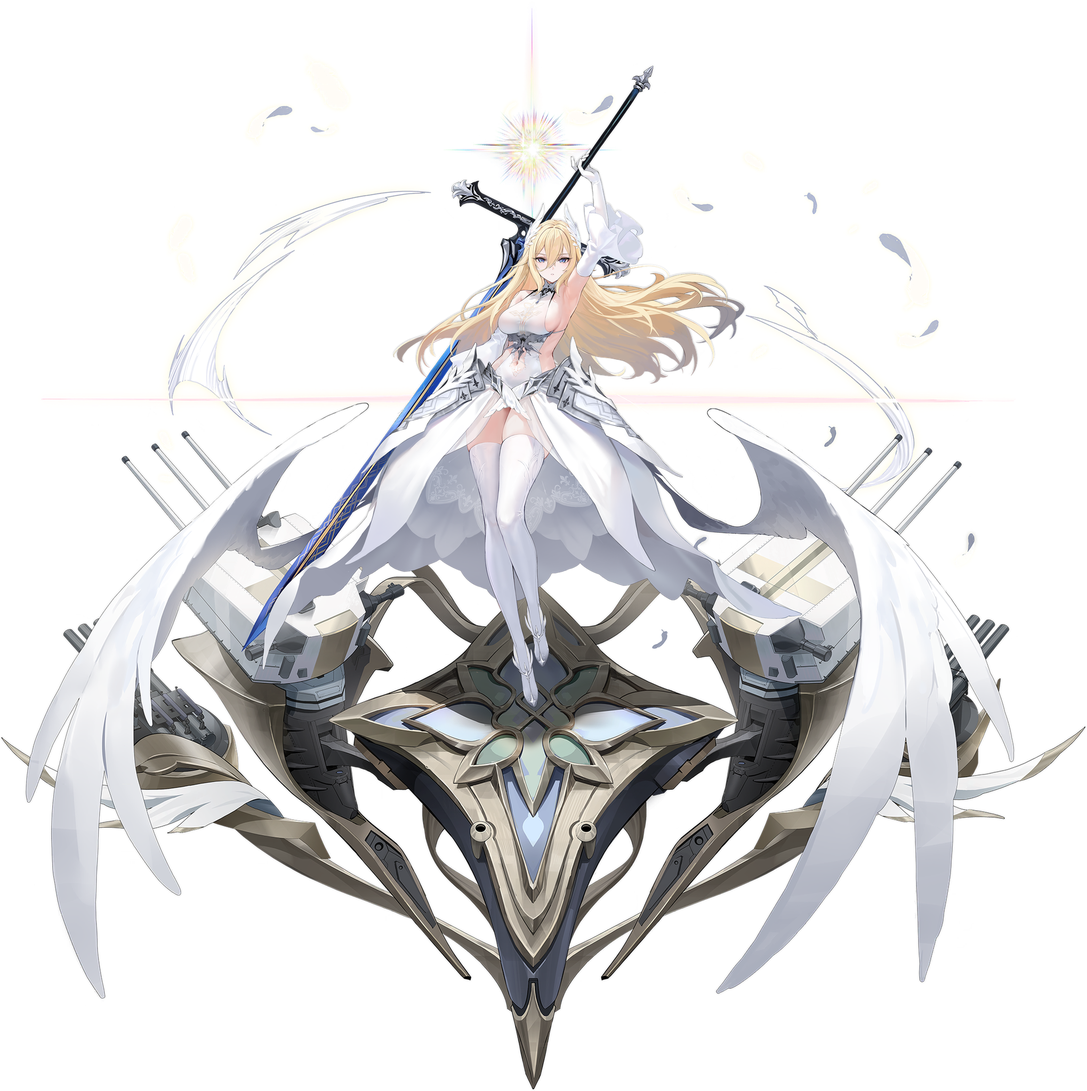person: (384, 182, 682, 748)
